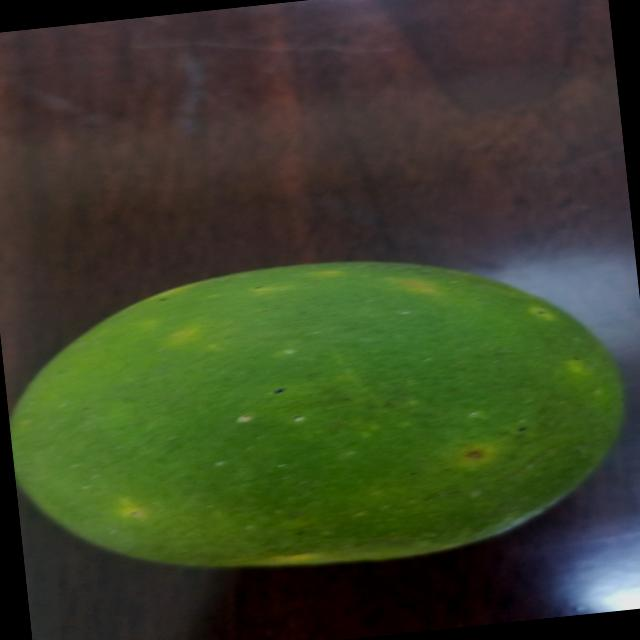Ripe orange: (4, 226, 634, 594)
